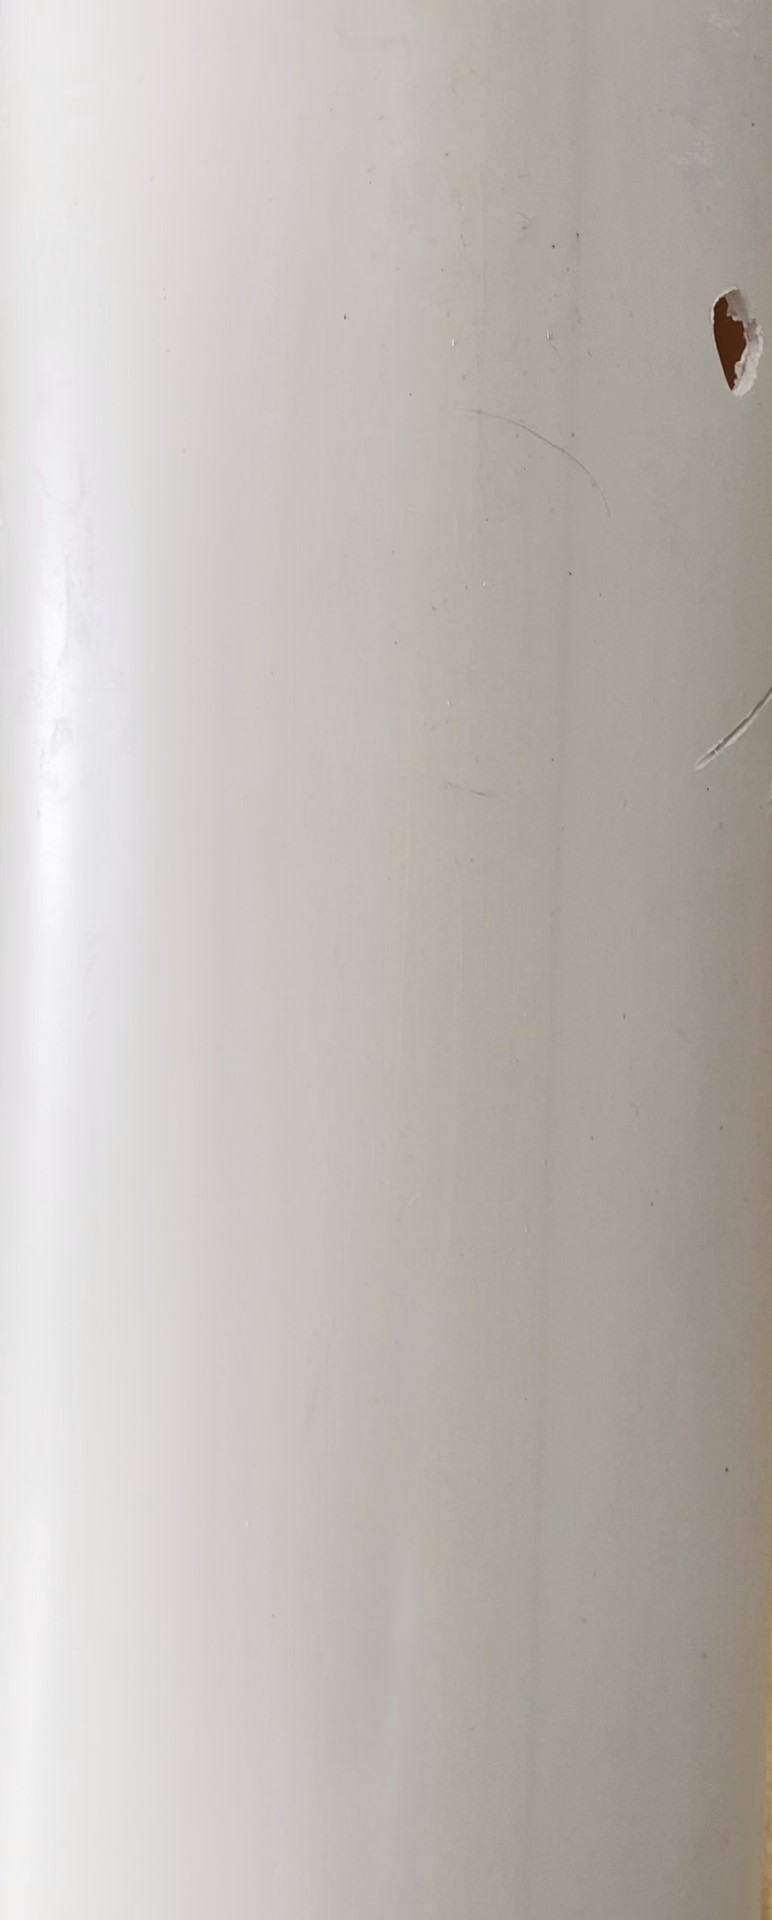kongdong: (697, 274, 765, 411)
